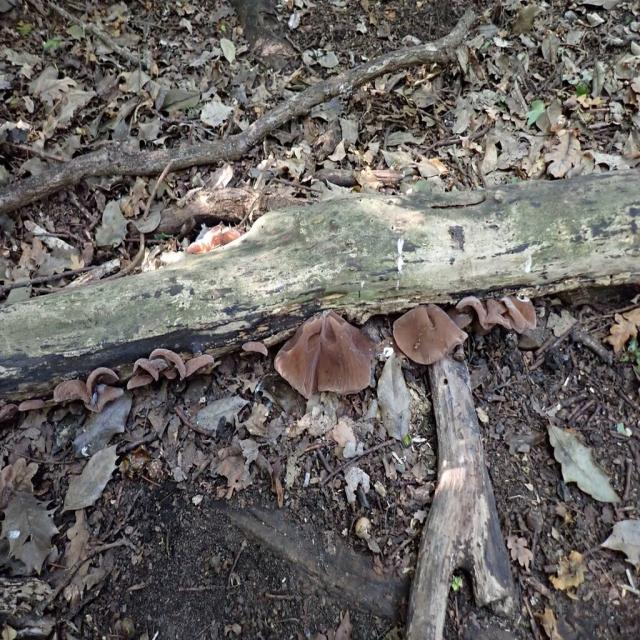Matang: (275, 306, 376, 397), (391, 298, 470, 368), (456, 292, 540, 338), (148, 345, 186, 387), (86, 361, 123, 403), (182, 350, 220, 386), (53, 374, 87, 414), (133, 355, 160, 387), (124, 371, 156, 392), (17, 395, 47, 413), (239, 338, 268, 356)
